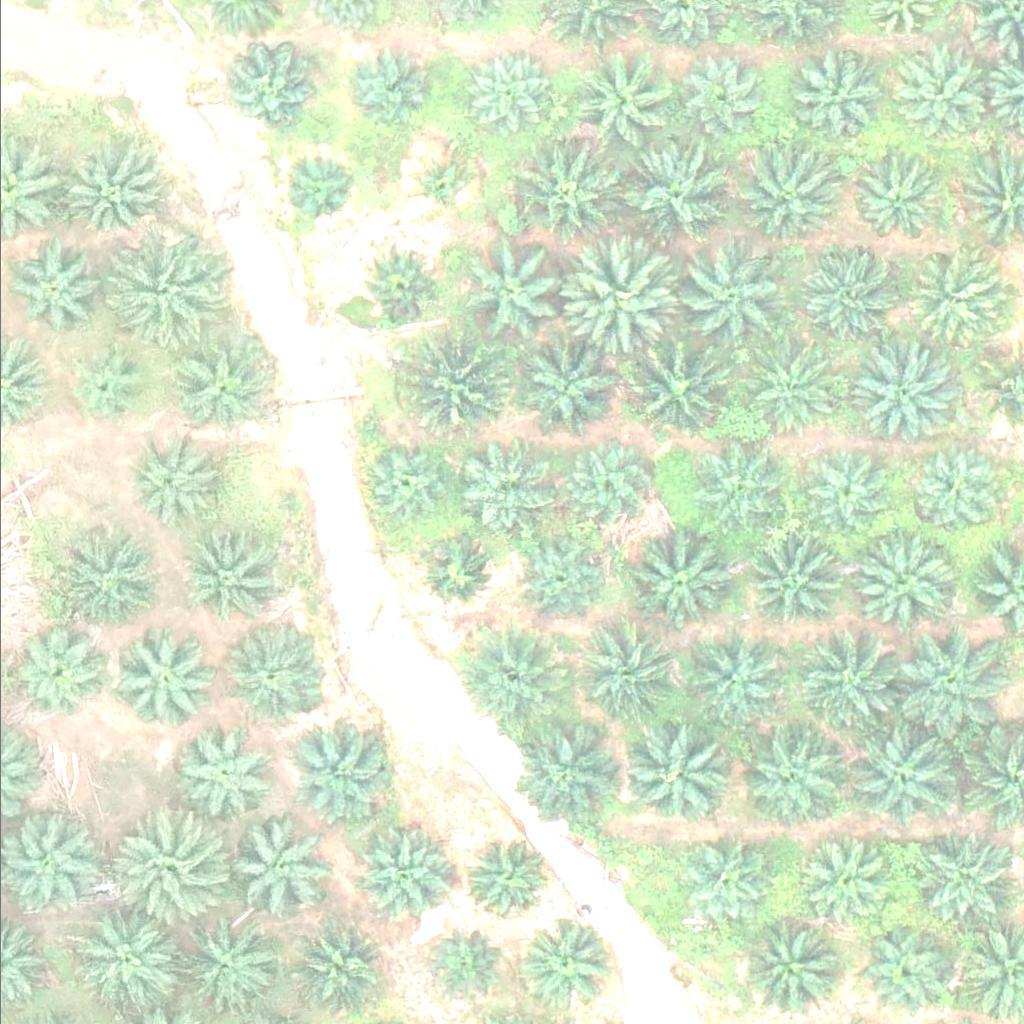Kelapa_Sawit: (728, 142, 842, 255), (738, 718, 852, 831), (103, 234, 217, 347), (563, 248, 676, 361), (628, 522, 741, 635), (892, 624, 1005, 737), (448, 621, 561, 734), (844, 722, 957, 835), (627, 710, 740, 823), (668, 247, 782, 359), (619, 141, 732, 253), (517, 140, 630, 252), (454, 243, 567, 355), (848, 336, 961, 448), (623, 336, 736, 448), (402, 334, 515, 446), (845, 524, 958, 636), (788, 627, 901, 739), (567, 615, 680, 727), (504, 714, 617, 826), (113, 812, 226, 924), (885, 43, 986, 143), (572, 52, 673, 152), (909, 251, 1010, 351), (746, 343, 847, 443), (512, 336, 613, 436), (168, 339, 269, 439), (445, 434, 546, 534), (745, 527, 846, 627), (915, 832, 1016, 932), (229, 819, 330, 919), (290, 717, 391, 817), (225, 625, 326, 725), (176, 525, 277, 625), (75, 907, 176, 1007), (115, 630, 216, 730), (55, 526, 156, 626), (796, 252, 896, 352), (688, 626, 788, 726), (745, 914, 845, 1014), (344, 822, 444, 922), (175, 721, 275, 821), (169, 917, 269, 1017), (60, 147, 160, 247), (798, 50, 886, 138), (677, 58, 765, 146), (457, 50, 545, 138), (218, 47, 306, 135), (413, 530, 501, 618), (805, 442, 893, 530), (802, 836, 890, 924), (682, 839, 770, 927), (863, 929, 951, 1017), (126, 440, 214, 528), (351, 45, 439, 132), (845, 159, 933, 246), (914, 440, 1002, 527), (687, 445, 775, 532), (562, 441, 650, 528), (358, 443, 446, 530), (517, 536, 605, 623), (291, 922, 379, 1009), (522, 917, 610, 1004), (459, 835, 547, 922), (16, 630, 104, 717), (5, 244, 93, 331), (362, 245, 438, 320), (68, 348, 144, 423), (280, 151, 355, 226), (419, 930, 494, 1005), (403, 152, 466, 215)
